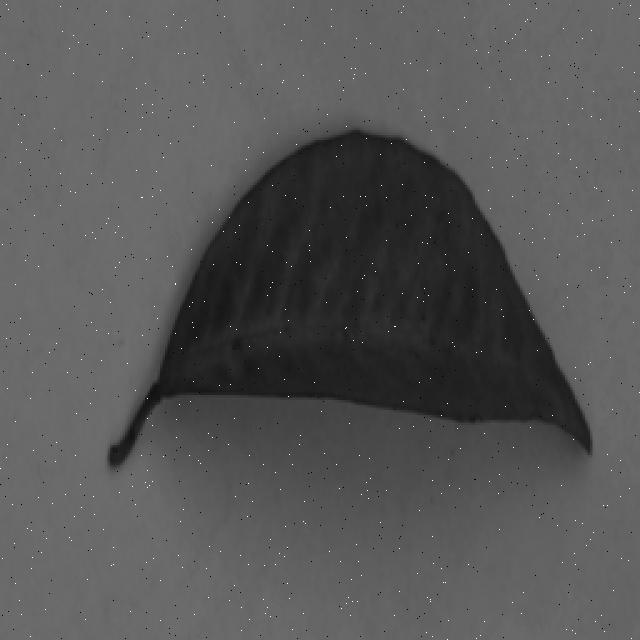greening: (94, 123, 606, 497)
